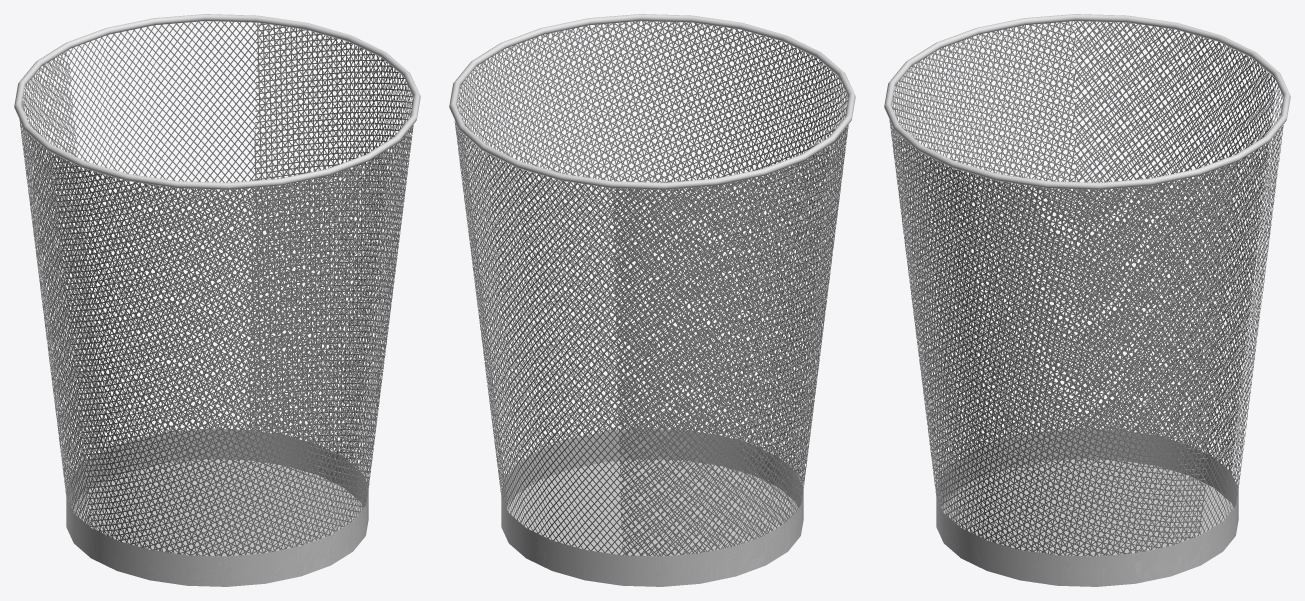
The model's file is waste_paper_basket.dae.
The picture shows the model from 3 angles, left to right: view 1: azimuth 30°, elevation 25°; view 2: azimuth 150°, elevation 25°; view 3: azimuth 270°, elevation 25°; orthographic projection.
Parts seen in each view (by area): view 1: bin; view 2: bin; view 3: bin.
Boxes of the visible parts, x1,y1,x2,y2 form: bin: [14, 14, 420, 586]; bin: [449, 14, 855, 586]; bin: [884, 14, 1290, 586].
Size of the model in its own units: 0.3652 by 0.3652 by 0.4207.
Materials: 3 (1 with a texture image).
